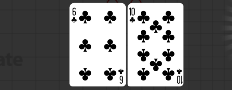10C: (175, 67, 182, 84)
5C: (70, 6, 78, 24)
